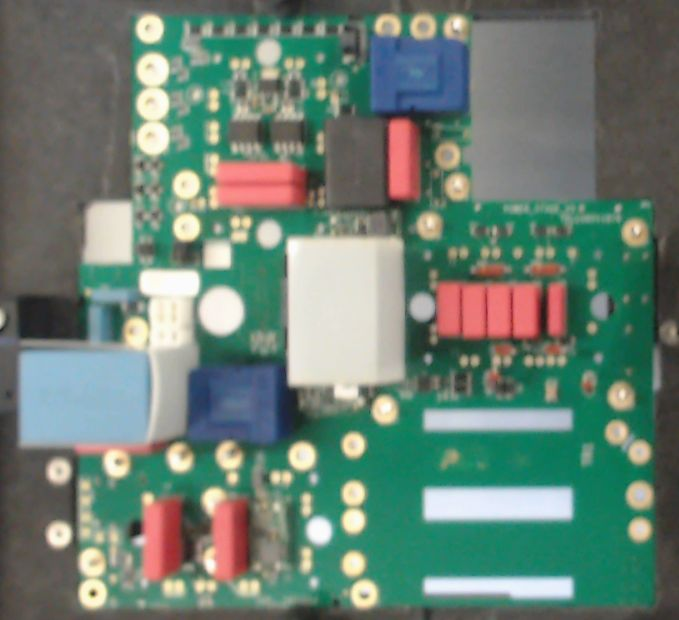comp1: (369, 34, 468, 119), (186, 366, 289, 443)
comp2: (387, 117, 424, 203), (143, 500, 183, 579), (212, 500, 247, 581), (215, 184, 310, 210), (215, 160, 305, 184), (513, 281, 540, 342), (435, 280, 462, 340), (485, 283, 512, 340), (461, 282, 485, 341), (548, 282, 567, 339)
comp3: (324, 115, 387, 208)
comp4: (17, 340, 195, 447), (285, 233, 408, 385)
